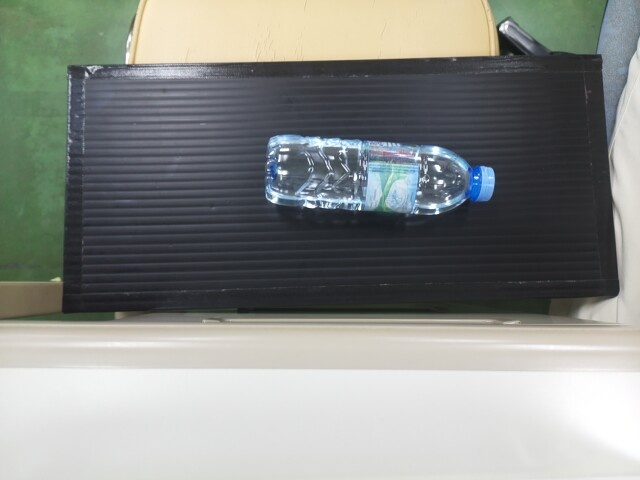plastic_bottle: (264, 128, 492, 222)
